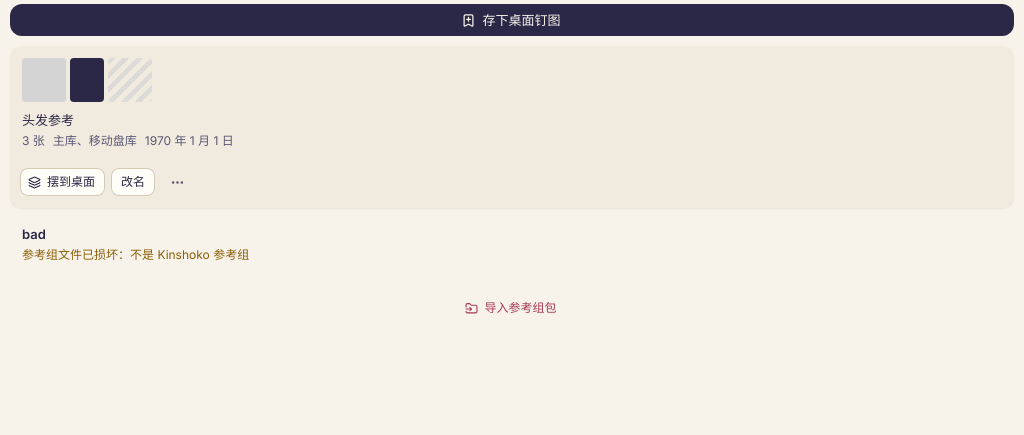
Test: 参考组面板 › 查看成员时标出不可用的原因与安全模式下的遮蔽
The image size is (1024, 435).
Expected: the text "资料库暂时不可用：没插" is not shown
Click the button named "更多操作": [177, 182] box [161, 166, 193, 198]
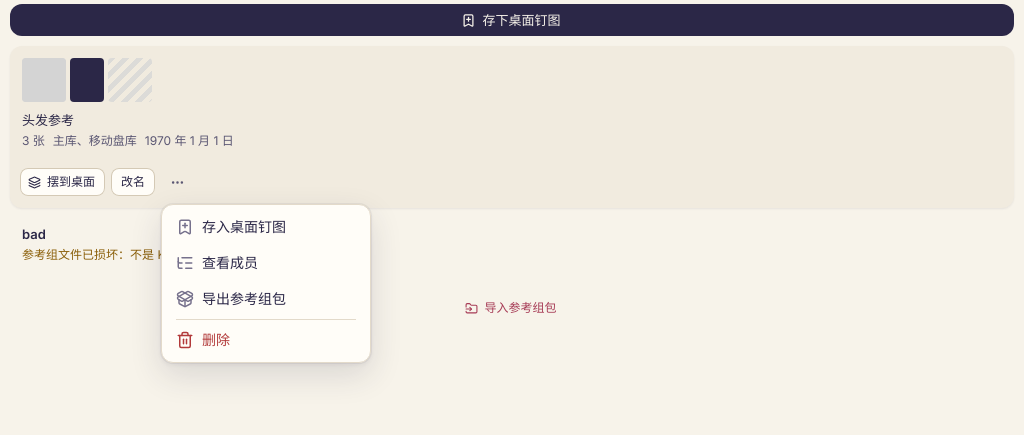
Click the menu item "查看成员": [217, 263] box [176, 254, 258, 272]
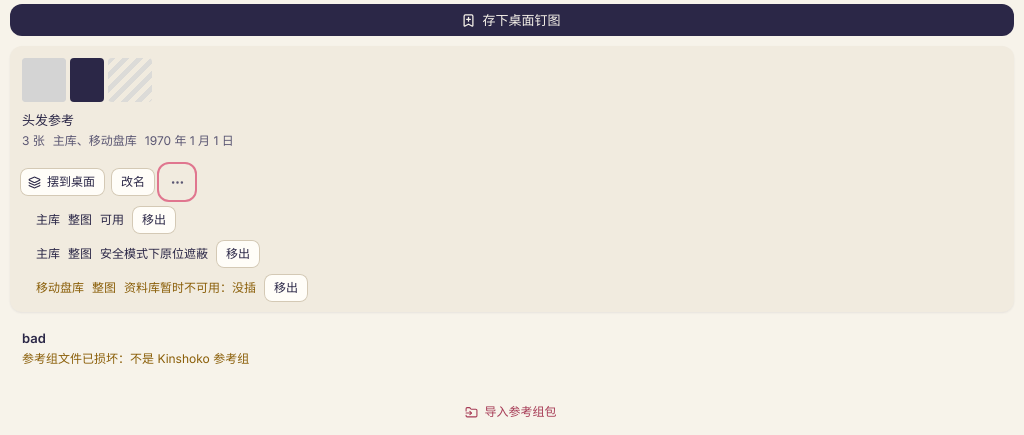
Now the text "资料库暂时不可用：没插" is shown, box [124, 278, 256, 298]
Now the text "安全模式下原位遮蔽" is shown, box [100, 244, 208, 264]
